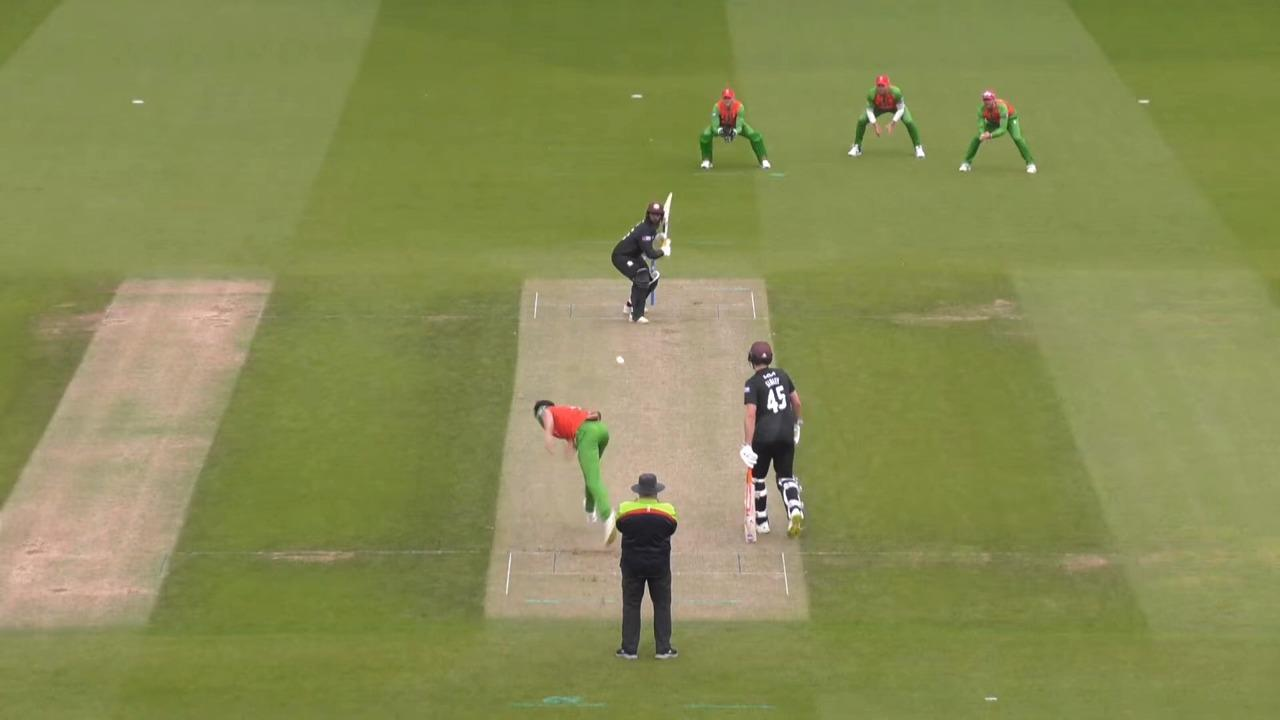sports ball: (616, 356, 624, 363)
